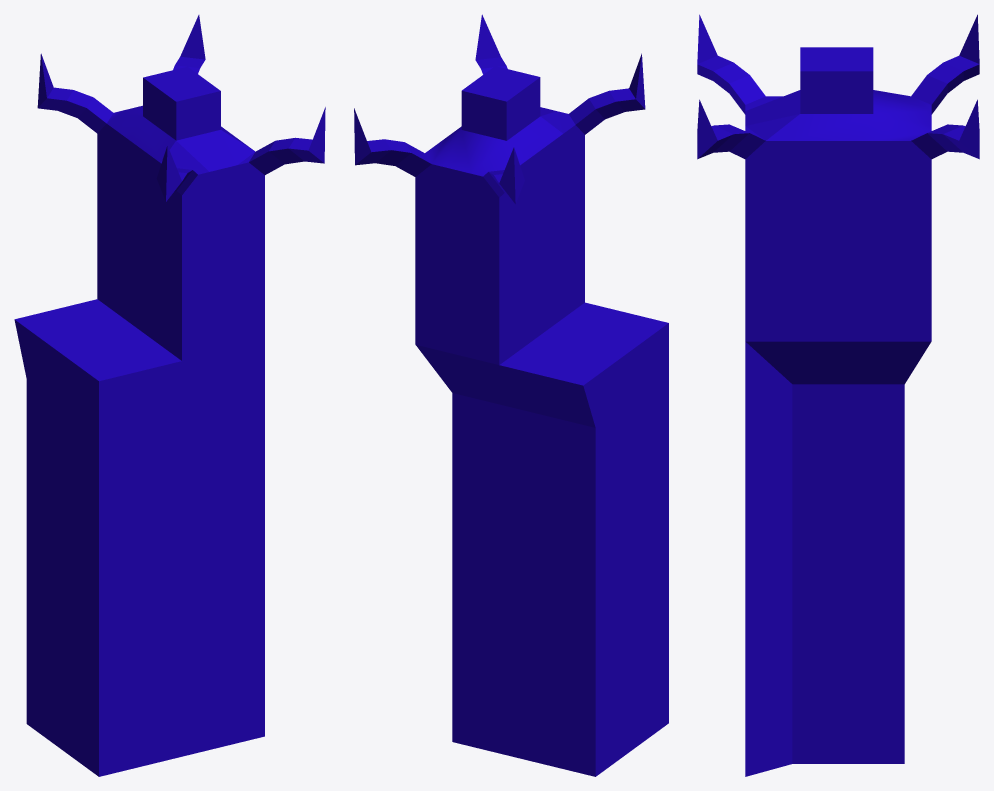
3 views of the same model, side by side, from view 1: azimuth 30°, elevation 25°; view 2: azimuth 150°, elevation 25°; view 3: azimuth 270°, elevation 25° (orthographic). The views are drawn at different scales.
Visible parts, largest first — view 1: Box003; view 2: Box003; view 3: Box003.
Boxes of the visible parts, bbox=[...] form: Box003: bbox=[14, 15, 325, 776]; Box003: bbox=[354, 14, 668, 776]; Box003: bbox=[697, 14, 979, 776].
Size of the model in its own units: 37.48 by 111 by 40.52.
